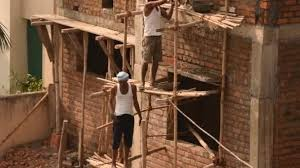arm: (131, 84, 143, 123), (107, 83, 117, 121), (163, 6, 176, 21), (143, 1, 170, 6)
face: (118, 77, 130, 89)
human: (104, 68, 143, 161)
leg: (121, 114, 135, 163), (108, 116, 123, 158), (150, 39, 162, 87), (139, 40, 149, 86)
noglove: (139, 115, 148, 126)
nohelmet: (115, 69, 131, 84)
novest: (112, 83, 136, 116), (112, 86, 134, 114), (147, 6, 163, 35)
